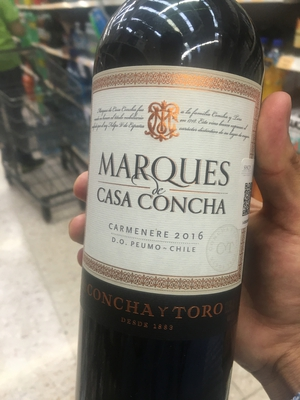marques de casa concha carmenere: (68, 9, 273, 394)
